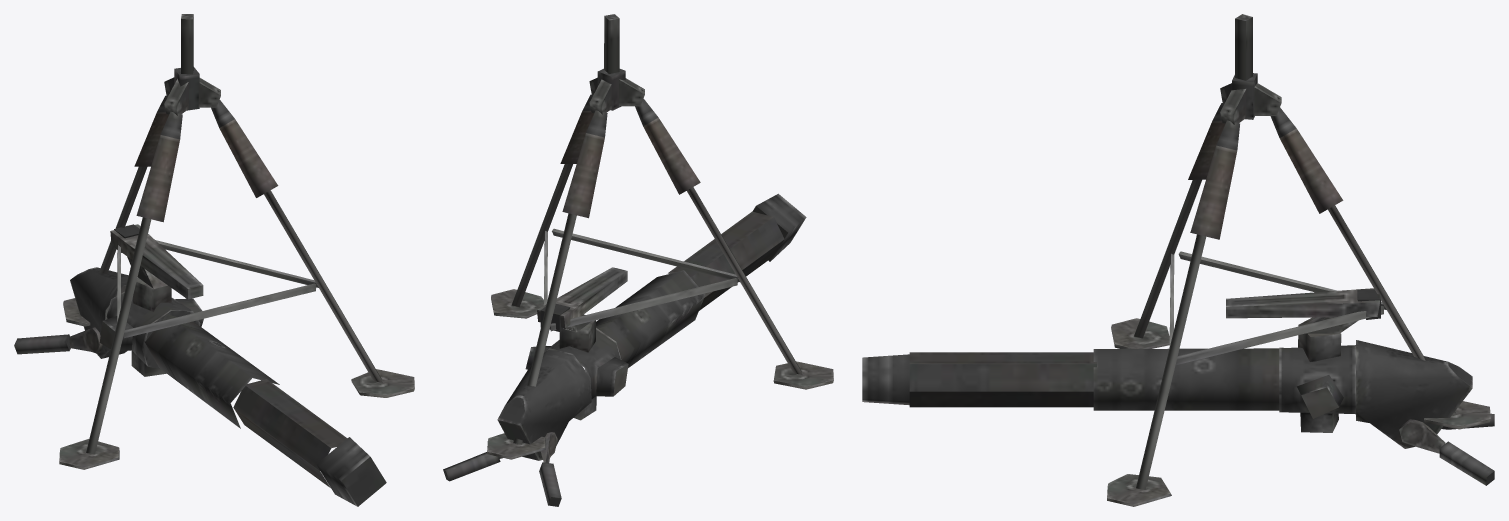
File: markii.far.glb
3 views of the same model, side by side, from view 1: azimuth 30°, elevation 25°; view 2: azimuth 150°, elevation 25°; view 3: azimuth 270°, elevation 25° (orthographic). The views are drawn at different scales.
Size of the model in its own units: 0.9289 by 1.02 by 1.34.
Materials: 1 (1 with a texture image).
